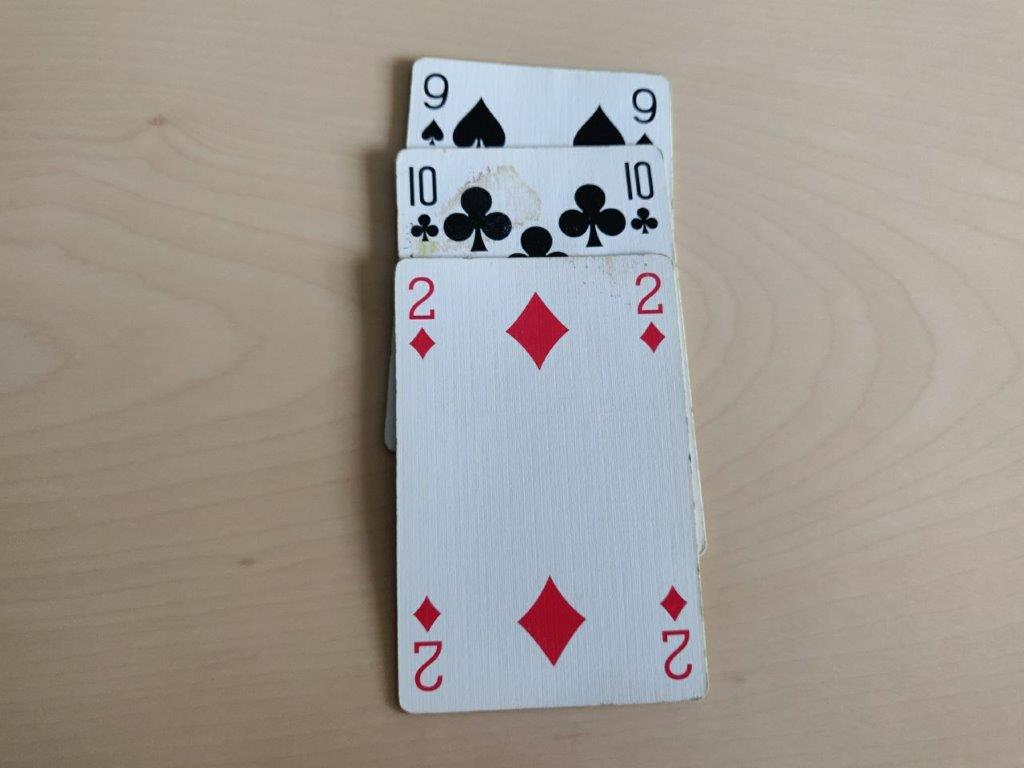10C: (401, 157, 444, 243), (620, 154, 662, 240)
2D: (396, 267, 447, 368), (624, 269, 675, 370)
9S: (418, 69, 451, 146), (628, 78, 659, 148)
